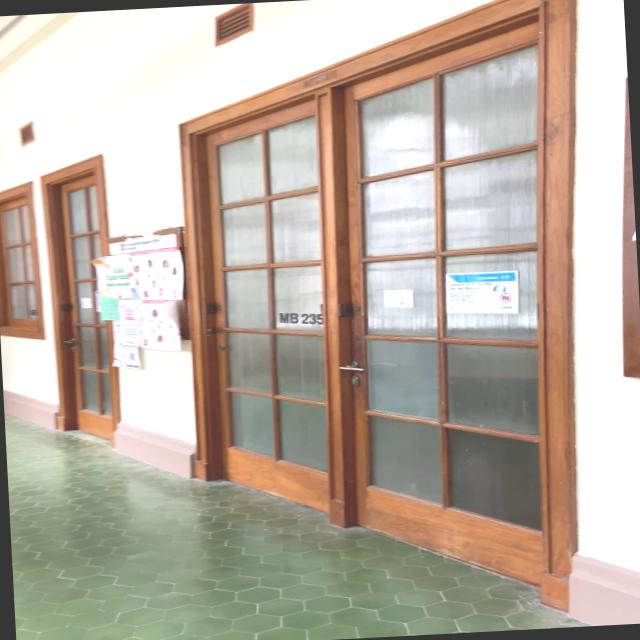room235Window: (276, 308, 324, 330)
